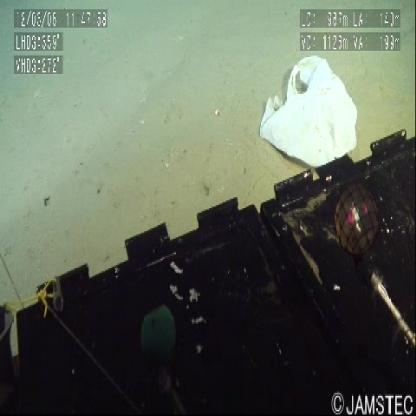Rov: (1, 126, 416, 416)
Rác: (256, 46, 366, 173)
